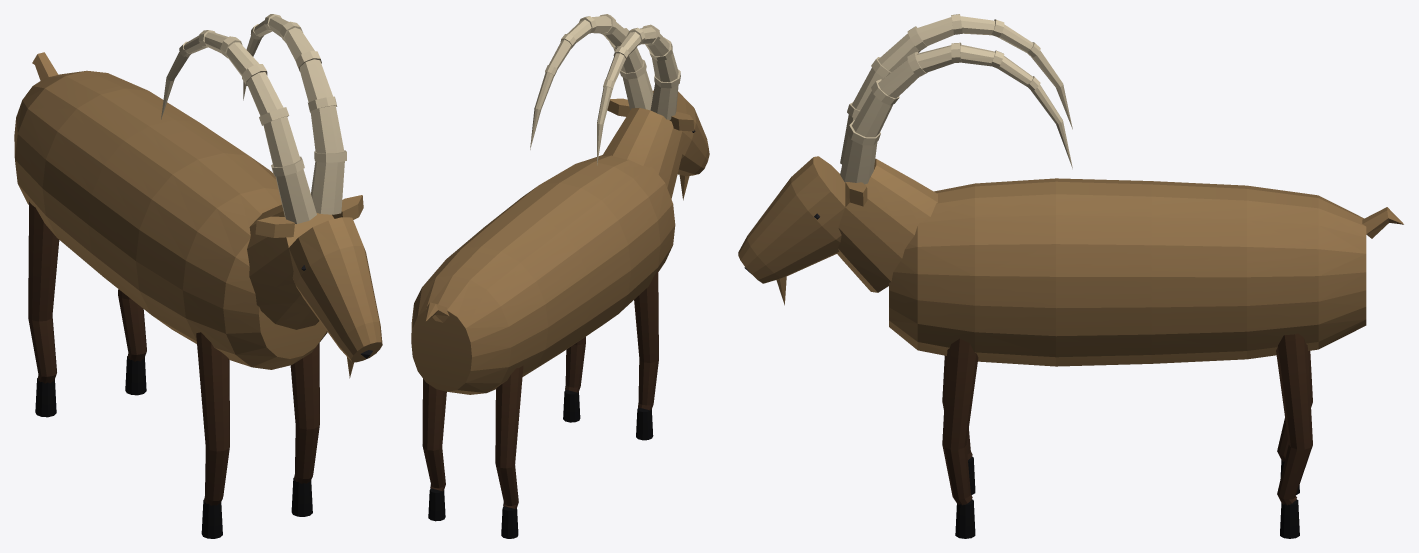
Rendered from Ibex.fbx.
The picture shows the model from 3 angles, left to right: view 1: azimuth 30°, elevation 25°; view 2: azimuth 150°, elevation 25°; view 3: azimuth 270°, elevation 25°; orthographic projection. The views are drawn at different scales.
Parts seen in each view (by area): view 1: Ibex_LOD0; view 2: Ibex_LOD0; view 3: Ibex_LOD0.
Part boxes in pixels (bbox=[...]): Ibex_LOD0: bbox=[14, 14, 382, 538]; Ibex_LOD0: bbox=[411, 14, 709, 538]; Ibex_LOD0: bbox=[738, 14, 1403, 538].
Size of what is drawn, in the model's own units: 0.46 by 1.46 by 1.82.
1 material, 1 textured.
